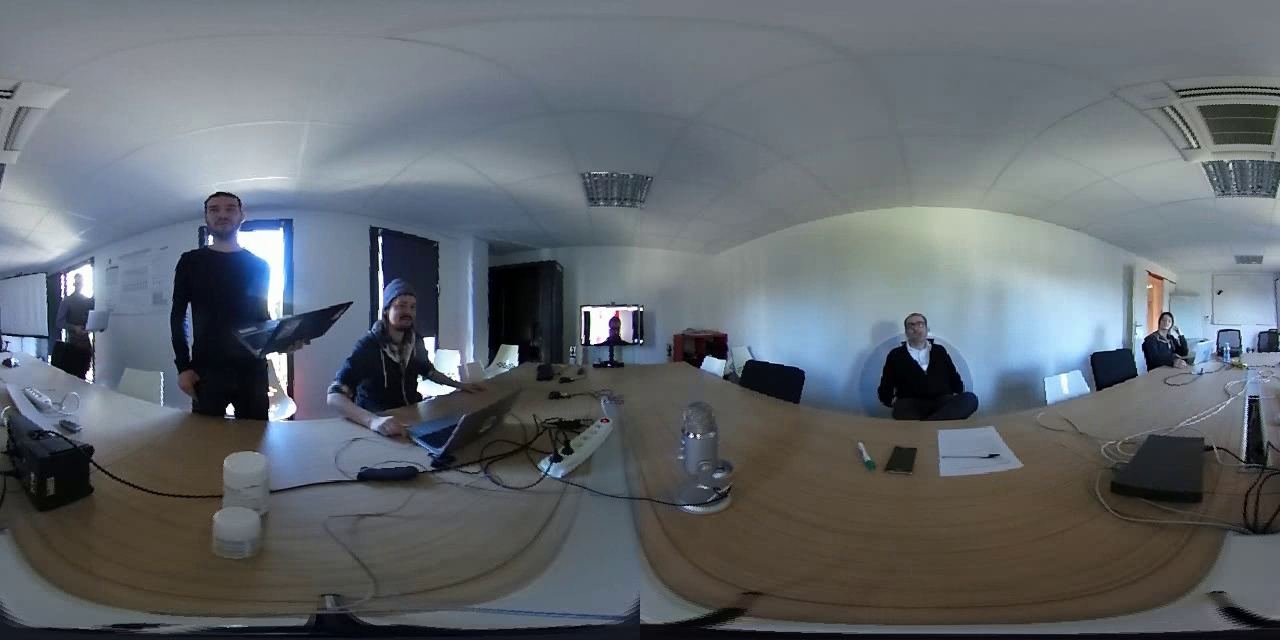person: (174, 176, 283, 389), (347, 268, 452, 407), (877, 300, 976, 413), (53, 267, 99, 359), (1140, 304, 1188, 371), (586, 303, 637, 341)
